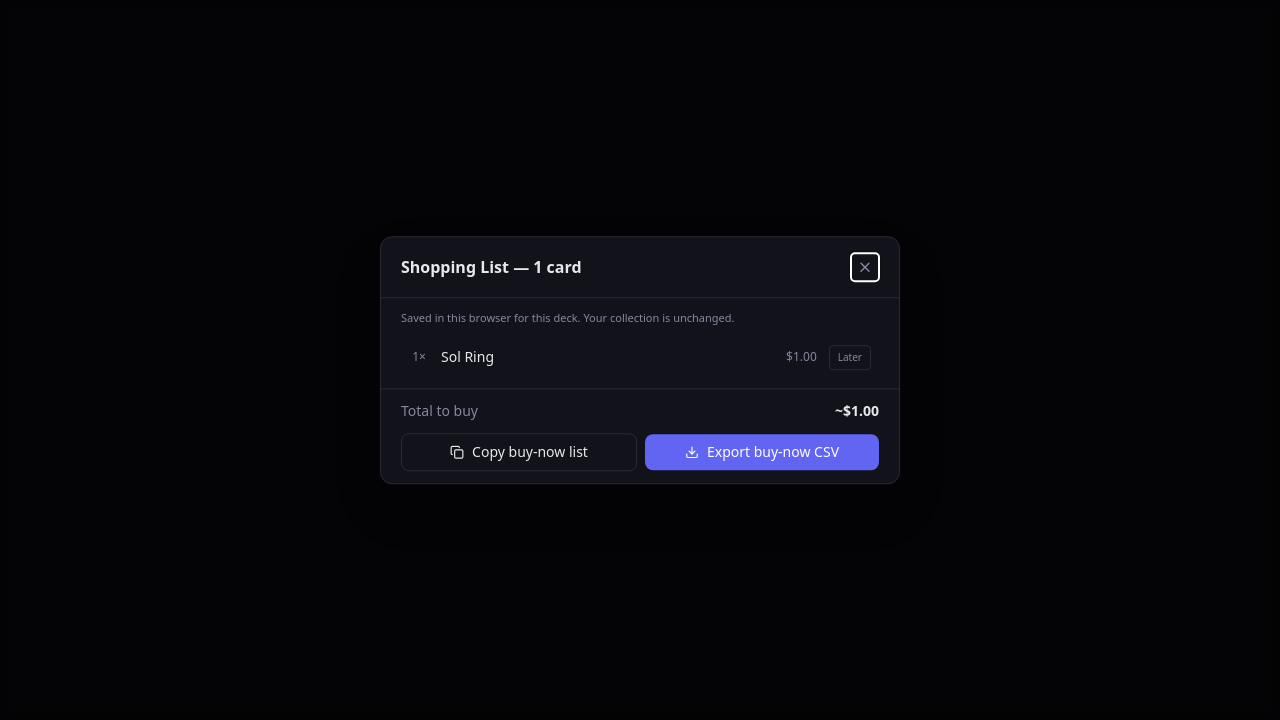
Scenario: ShoppingListModal › disables buy-now exports when every missing card is deferred
Click the button with aria-label "Buy later: Sol Ring".
click(850, 357)  # box [829,345,871,370]
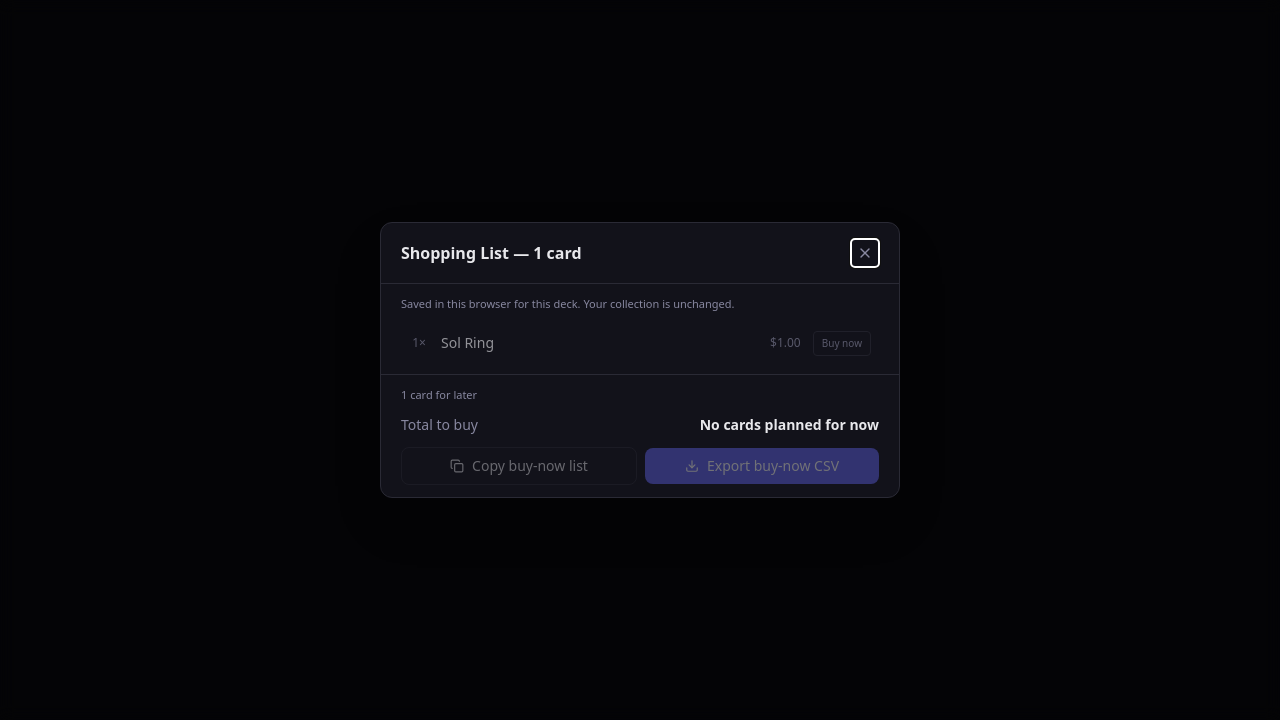
Check: the text "No cards planned for now" is shown, box [700,415,879,435]
Check: the button "Copy buy-now list" is disabled, box [401,447,637,485]
Check: the button "Export buy-now CSV" is disabled, box [645,448,879,484]
